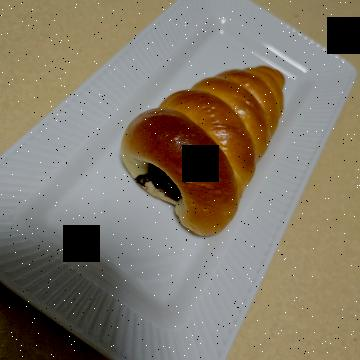cream horn: (56, 73, 252, 259)
